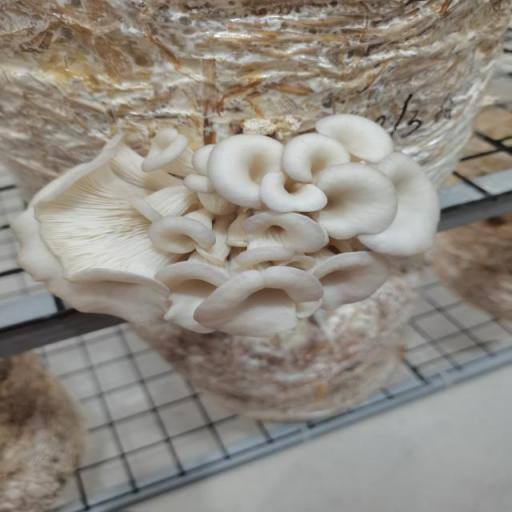White Oyster Mushroom: (11, 117, 456, 349)
